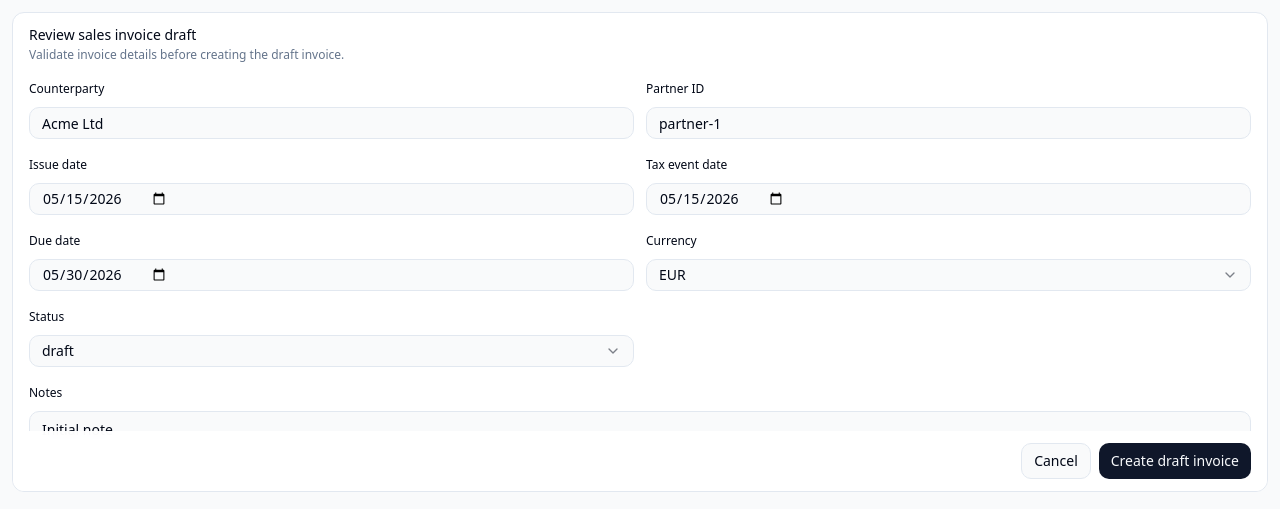
SalesInvoiceDraftConfirmation › shows api error message when invoice creation fails
Click the button "Create draft invoice". click: (1175, 461)
box: [1099, 443, 1251, 479]
(page scrolled)
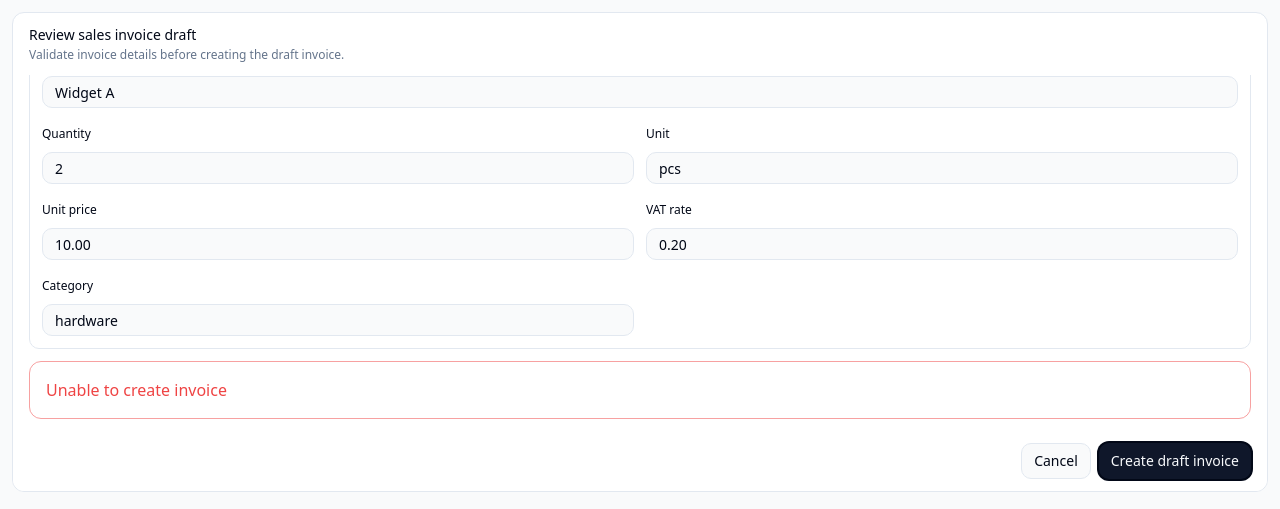
Now the text "Unable to create invoice" is shown, box [29, 361, 1251, 419]
